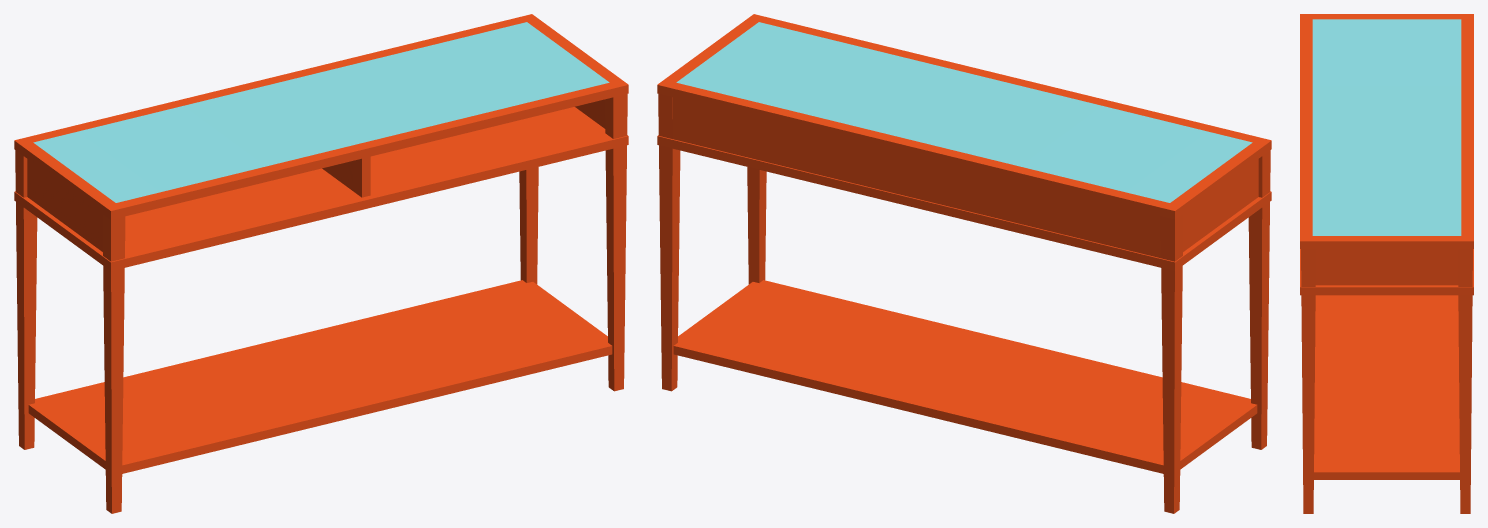
The model's file is office_table_012.glb.
3 views of the same model, side by side, from view 1: azimuth 30°, elevation 25°; view 2: azimuth 150°, elevation 25°; view 3: azimuth 270°, elevation 25° (orthographic). The views are drawn at different scales.
Parts seen in each view (by area): view 1: office_table_012; view 2: office_table_012; view 3: office_table_012.
Boxes of the visible parts, x1,y1,x2,y2 form: office_table_012: (14, 14, 628, 513); office_table_012: (657, 14, 1271, 513); office_table_012: (1300, 14, 1473, 513).
Size of the model in its own units: 1.15 by 0.6453 by 0.371.
1 material, 1 textured.
